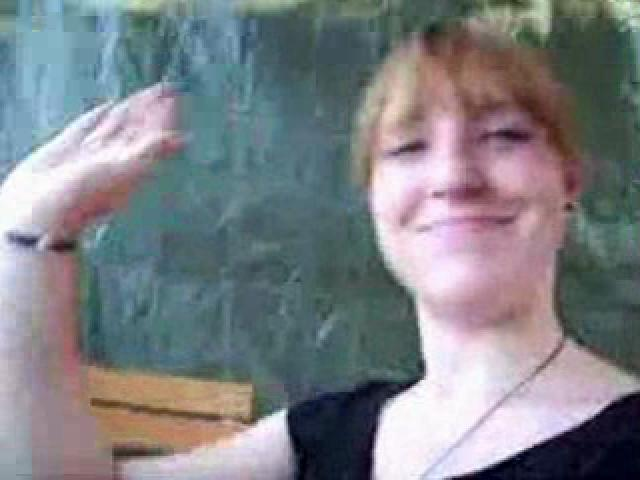T: (6, 25, 638, 478)
